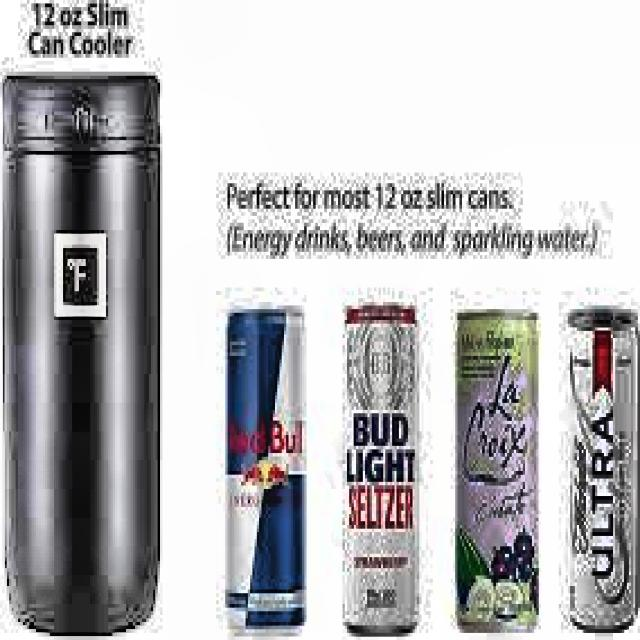can: (216, 295, 314, 640), (451, 302, 541, 640), (338, 295, 421, 640), (559, 295, 640, 640)
